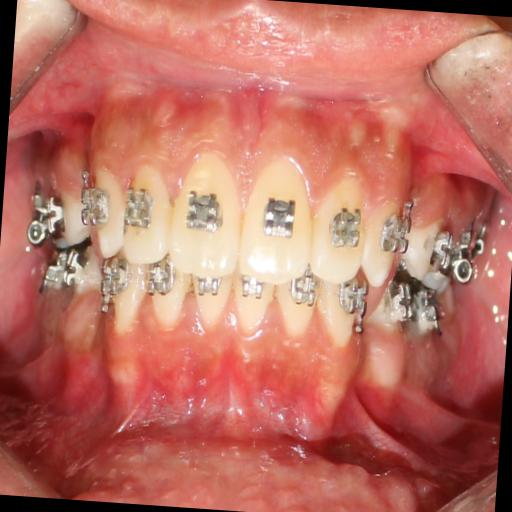correct_brace: (182, 186, 230, 236), (259, 192, 301, 246), (328, 202, 370, 252), (120, 181, 156, 234)
incorrect_brace: (309, 156, 375, 286), (116, 148, 176, 270)
